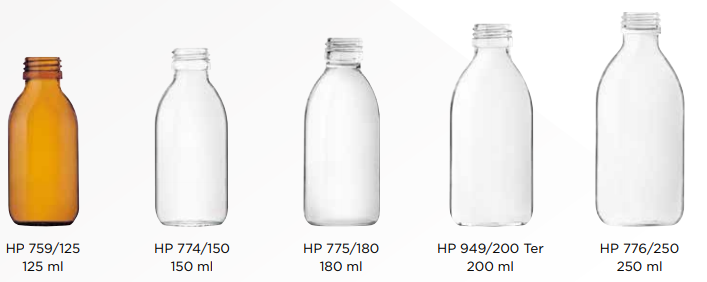glass_bottle: (589, 9, 687, 229), (446, 21, 536, 234), (296, 36, 385, 231), (151, 46, 233, 231), (2, 54, 85, 232)
